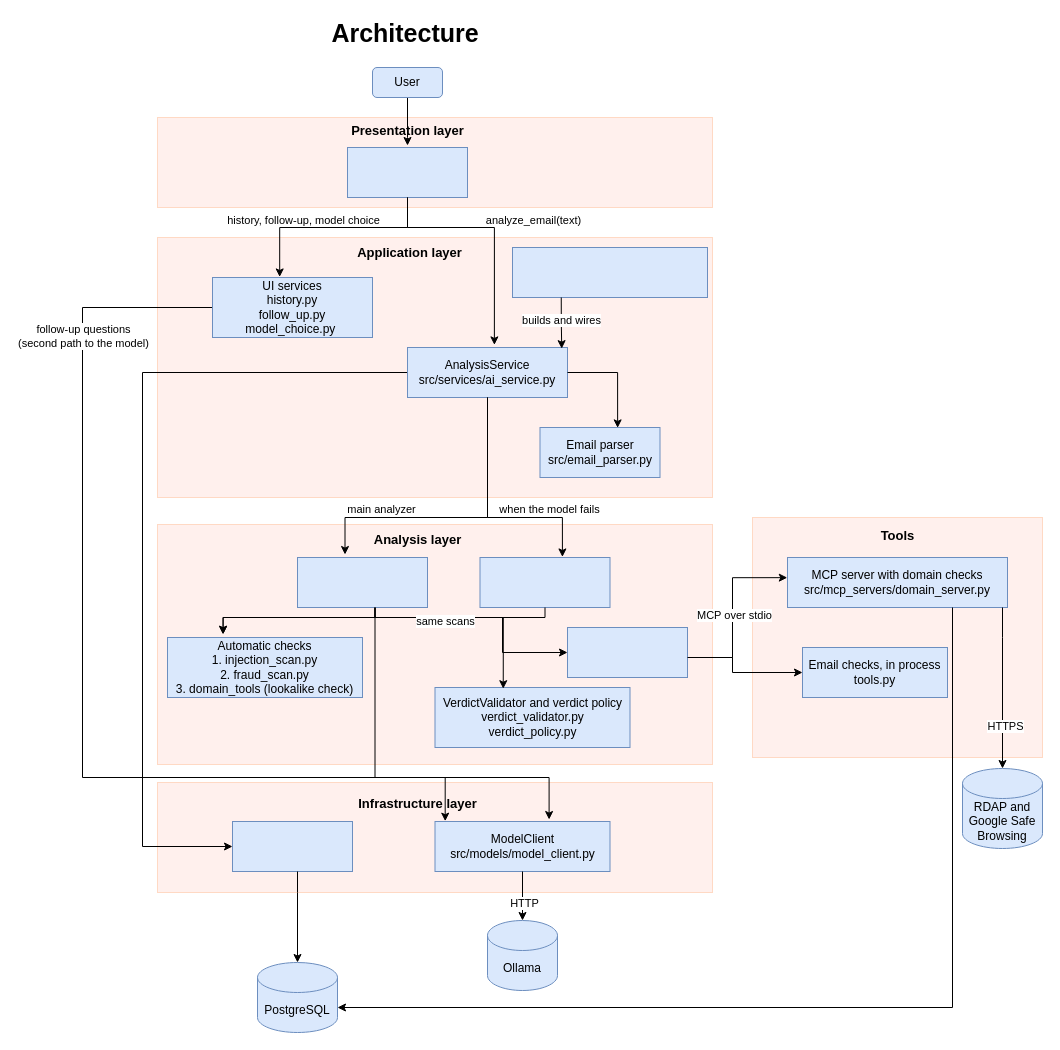
This 1060x1050 diagram has some shape labels left out. Each missing label, with the box of its shape:
AgentAnalyzer agent.py (verdict in new context): (296, 556, 428, 608)
Case history memory.py: (232, 820, 352, 872)
Gradio UI app/ui.py app/frontend/: (346, 146, 468, 198)
OfflineAnalyzer offline_analyzer.py: (479, 556, 610, 608)
Service factory src/services/service_factory.py: (512, 246, 708, 298)
ToolRegistry tool_registry.py: (566, 626, 688, 678)
